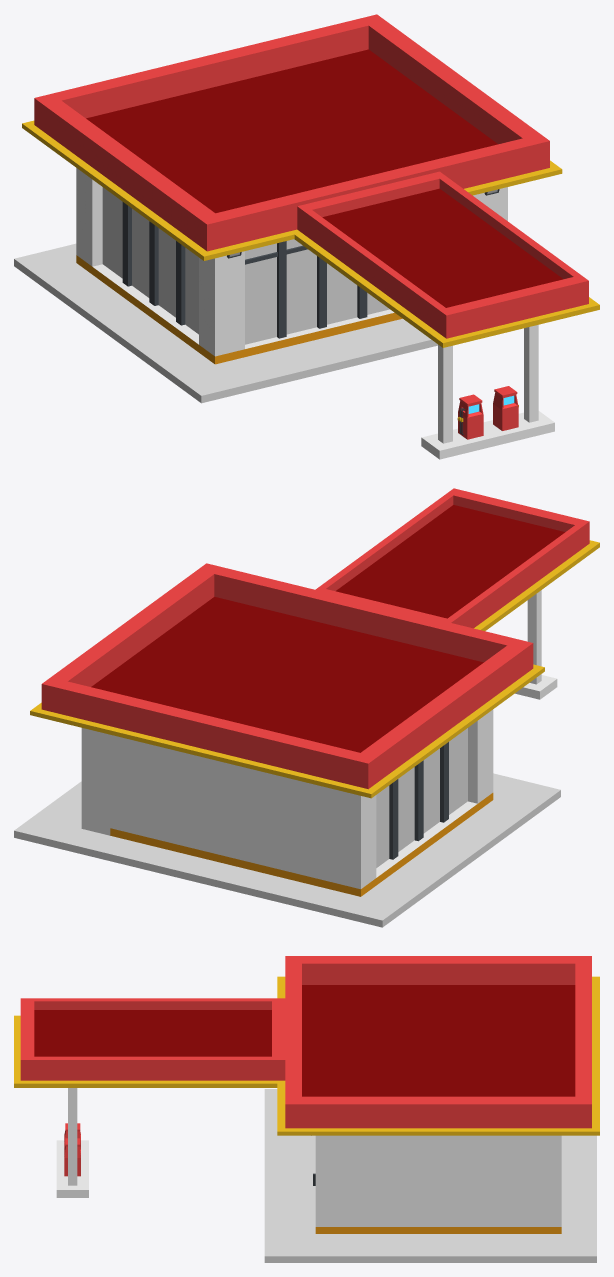
Rendered from gas_station.fbx.
3 views of the same model, one above another, from view 1: azimuth 30°, elevation 25°; view 2: azimuth 150°, elevation 25°; view 3: azimuth 270°, elevation 25° (orthographic). The views are drawn at different scales.
Parts seen in each view (by area): view 1: Cube.010, Cube.004, Cube.008, Cube.020, Cube.002, стёкла, Cube.009, Cube.003, Cube.001, Cube, ручка; view 2: Cube.010, Cube.008, Cube.004, Cube.020, Cube.002, Cube.009, стёкла, Cube.003, Cube.001, Cube; view 3: Cube.010, Cube.008, Cube.004, Cube.020, Cube.002, Cube.009, Cube.003, Cube, Cube.001, ручка.
Part boxes in pixels (x1=…): Cube.010: x1=34, y1=14, x2=549, y2=251; Cube.004: x1=14, y1=243, x2=437, y2=403; Cube.008: x1=76, y1=168, x2=507, y2=364; Cube.020: x1=322, y1=188, x2=562, y2=307; Cube.002: x1=297, y1=171, x2=588, y2=338; стёкла: x1=102, y1=187, x2=389, y2=344; Cube.009: x1=22, y1=120, x2=562, y2=260; Cube.003: x1=294, y1=233, x2=599, y2=347; Cube.001: x1=438, y1=325, x2=538, y2=443; Cube: x1=421, y1=411, x2=554, y2=459; ручка: x1=458, y1=386, x2=518, y2=439; Cube.010: x1=41, y1=563, x2=533, y2=789; Cube.008: x1=81, y1=709, x2=493, y2=896; Cube.004: x1=14, y1=773, x2=560, y2=927; Cube.020: x1=336, y1=505, x2=565, y2=618; Cube.002: x1=315, y1=488, x2=589, y2=628; Cube.009: x1=30, y1=664, x2=544, y2=798; стёкла: x1=376, y1=728, x2=467, y2=867; Cube.003: x1=474, y1=540, x2=599, y2=630; Cube.001: x1=527, y1=590, x2=541, y2=684; Cube: x1=515, y1=675, x2=557, y2=699; Cube.010: x1=285, y1=956, x2=591, y2=1128; Cube.008: x1=315, y1=1135, x2=561, y2=1233; Cube.004: x1=264, y1=1089, x2=596, y2=1262; Cube.020: x1=34, y1=1010, x2=271, y2=1056; Cube.002: x1=20, y1=998, x2=285, y2=1080; Cube.009: x1=277, y1=976, x2=599, y2=1135; Cube.003: x1=14, y1=1015, x2=277, y2=1087; Cube: x1=56, y1=1140, x2=88, y2=1197; Cube.001: x1=68, y1=1088, x2=77, y2=1185; ручка: x1=64, y1=1123, x2=80, y2=1176.
Size of the model in its own units: 5563 by 1541 by 3759.
